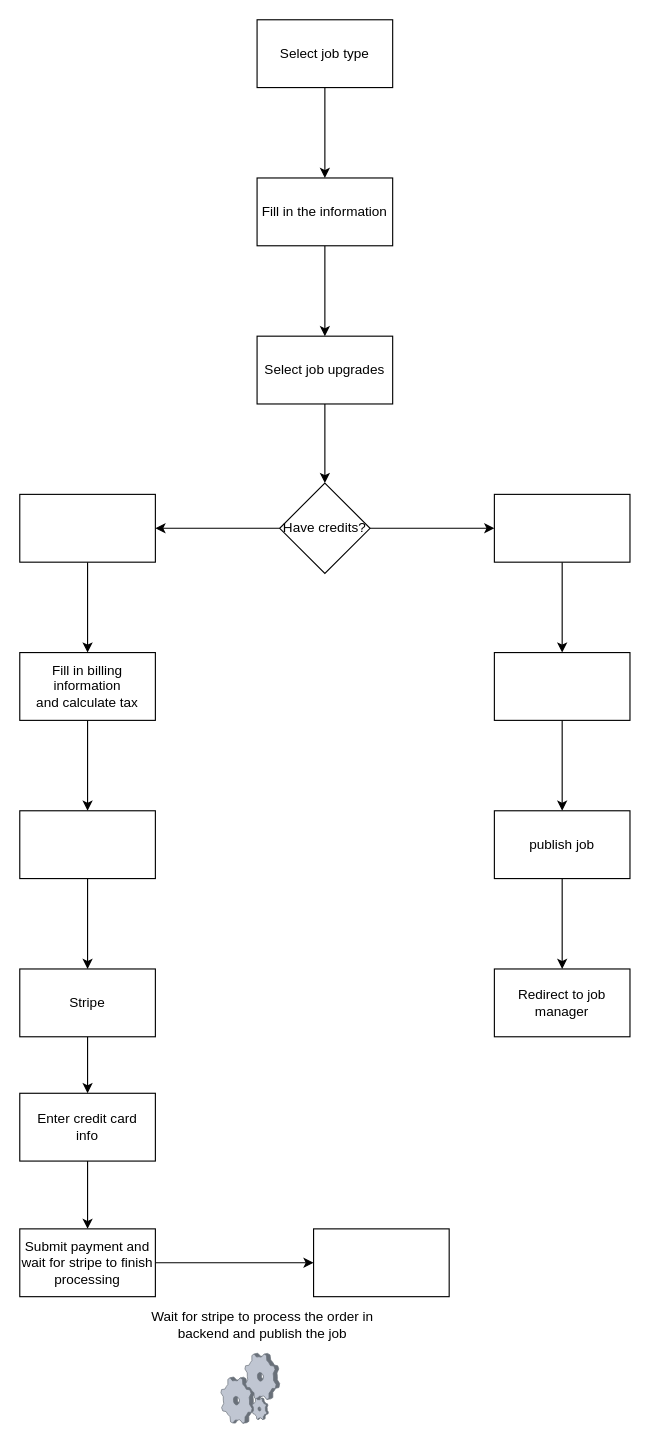
Some shapes in this 650 by 1443 pixel diagram are drawn without their labels. Each missing label, with the centre of its shape:
Create order: the point at 87,527
Set job unpublished and redirect to job manager: the point at 380,1262
Show info credit substracted: the point at 561,685
Submit and redirect to payment step: the point at 87,844
Subtract credits: the point at 561,527
